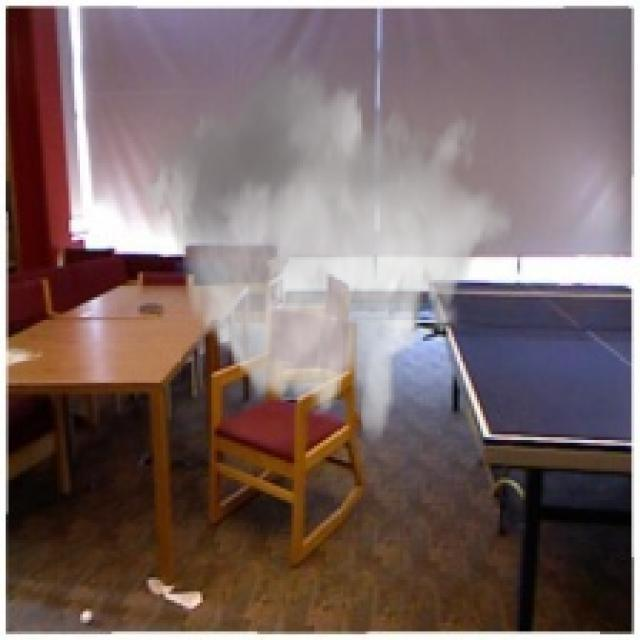Smoke: (142, 37, 514, 443)
